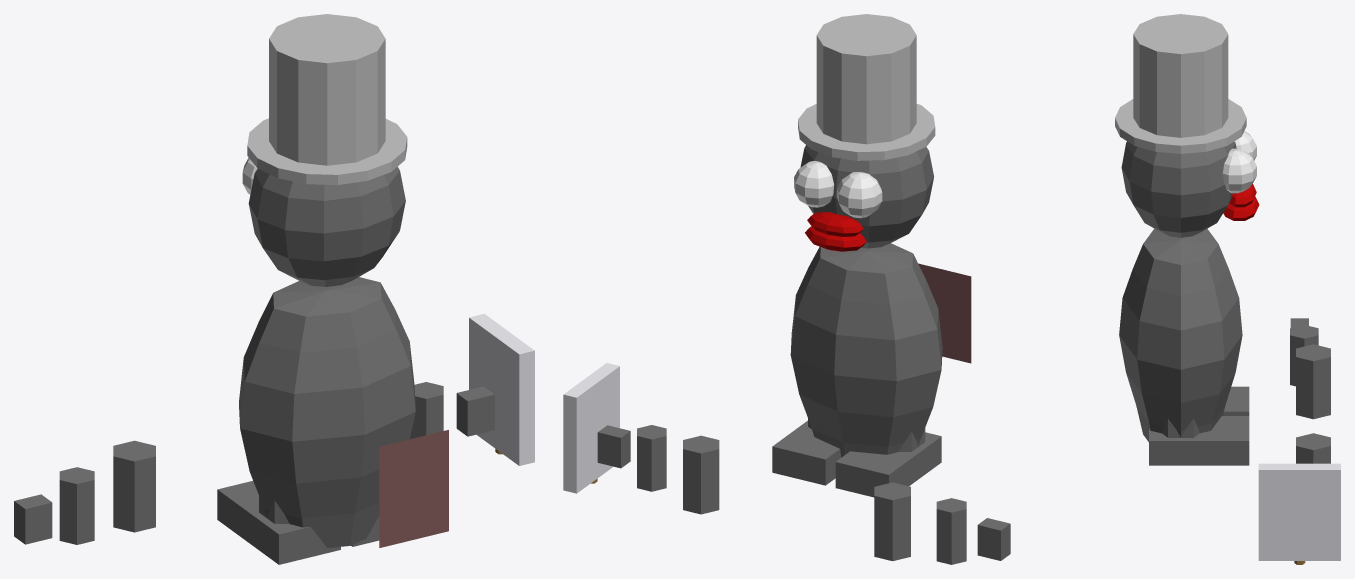
Rendered from cook.glb.
The picture shows the model from 3 angles, left to right: view 1: azimuth 30°, elevation 25°; view 2: azimuth 150°, elevation 25°; view 3: azimuth 270°, elevation 25°; orthographic projection. The views are drawn at different scales.
Parts seen in each view (by area): view 1: Body, HatBody, Head, Apron, Cleaver_Blade, HatBrim, Foot_L, Arm_Upper_L, Arm_Lower_L, Hand_L, Hand_R, Arm_Lower_R; view 2: Body, HatBody, Head, Cleaver_Blade, Foot_L, HatBrim, Apron, Foot_R, Arm_Upper_R, Arm_Upper_L, Arm_Lower_L, Arm_Lower_R (+6 smaller); view 3: Body, HatBody, Cleaver_Blade, Head, Foot_R, HatBrim, Arm_Upper_L, EyeWhite_R, Arm_Upper_R, Arm_Lower_L, Foot_L, Lip_Lower (+2 smaller).
Boxes of the visible parts, <box> form: Body: <box>239,277,415,547</box>; HatBody: <box>269,14,385,165</box>; Head: <box>248,166,405,286</box>; Apron: <box>379,430,448,547</box>; Cleaver_Blade: <box>469,314,534,465</box>; HatBrim: <box>247,118,407,184</box>; Foot_L: <box>217,481,340,564</box>; Arm_Upper_L: <box>113,440,155,532</box>; Arm_Lower_L: <box>59,467,94,544</box>; Hand_L: <box>14,494,52,544</box>; Hand_R: <box>456,386,494,436</box>; Arm_Lower_R: <box>410,382,443,438</box>; Body: <box>790,243,942,457</box>; HatBody: <box>816,14,916,144</box>; Head: <box>800,145,933,248</box>; Cleaver_Blade: <box>563,363,619,493</box>; Foot_L: <box>835,432,941,497</box>; HatBrim: <box>798,104,935,160</box>; Apron: <box>918,263,971,363</box>; Foot_R: <box>772,420,841,485</box>; Arm_Upper_R: <box>683,435,719,514</box>; Arm_Upper_L: <box>874,482,910,561</box>; Arm_Lower_L: <box>936,498,966,564</box>; Arm_Lower_R: <box>637,425,666,491</box>; Body: <box>1119,228,1242,441</box>; HatBody: <box>1133,14,1228,137</box>; Cleaver_Blade: <box>1258,463,1340,560</box>; Head: <box>1121,141,1236,237</box>; Foot_R: <box>1149,416,1249,465</box>; HatBrim: <box>1115,99,1246,153</box>; Arm_Upper_L: <box>1296,344,1330,419</box>; EyeWhite_R: <box>1222,148,1256,193</box>; Arm_Upper_R: <box>1296,433,1330,463</box>; Arm_Lower_L: <box>1290,325,1318,386</box>; Foot_L: <box>1223,386,1249,415</box>; Lip_Lower: <box>1223,196,1259,220</box>.
Size of the model in its own units: 5.05 by 5.19 by 3.3.
